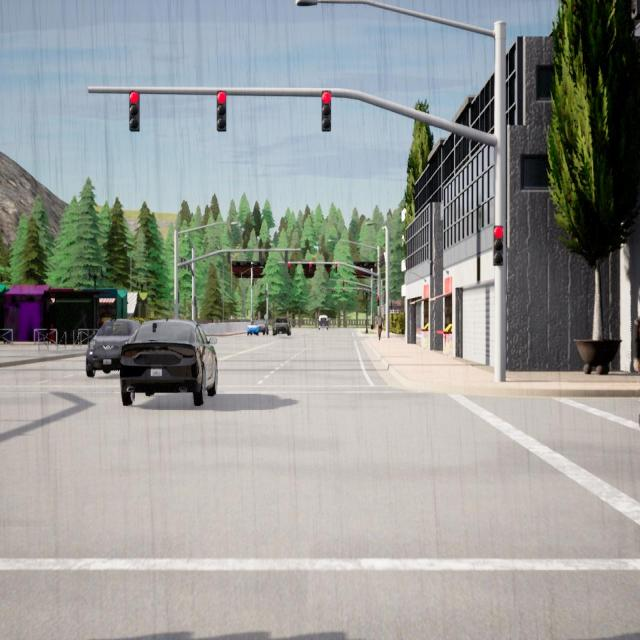Pedestrian: (376, 312, 382, 341)
Traffic_Signs: (264, 315, 268, 319)
Vehicle: (120, 320, 218, 406), (86, 320, 140, 377), (272, 317, 291, 336), (248, 320, 268, 336), (319, 315, 328, 330)
traffic_light: (322, 91, 331, 132), (130, 91, 139, 132), (217, 90, 226, 130), (494, 226, 503, 265), (285, 250, 288, 263), (259, 251, 262, 263), (184, 258, 187, 270), (379, 257, 382, 267), (178, 292, 180, 304), (309, 264, 312, 272), (335, 264, 338, 272), (228, 252, 230, 263), (181, 258, 183, 268), (194, 296, 196, 306), (378, 296, 380, 306), (382, 255, 384, 265), (288, 264, 290, 272), (188, 264, 190, 271), (331, 288, 333, 294), (342, 280, 344, 286), (357, 289, 359, 294), (344, 289, 344, 293)
